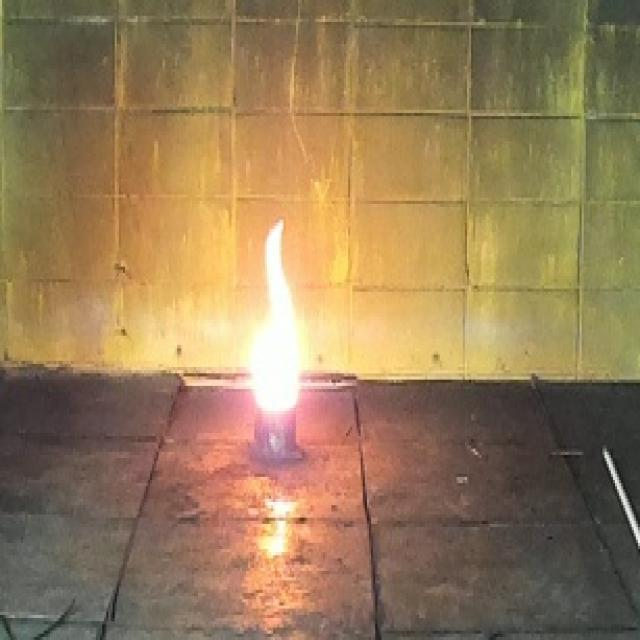Fire: (252, 218, 299, 414)
